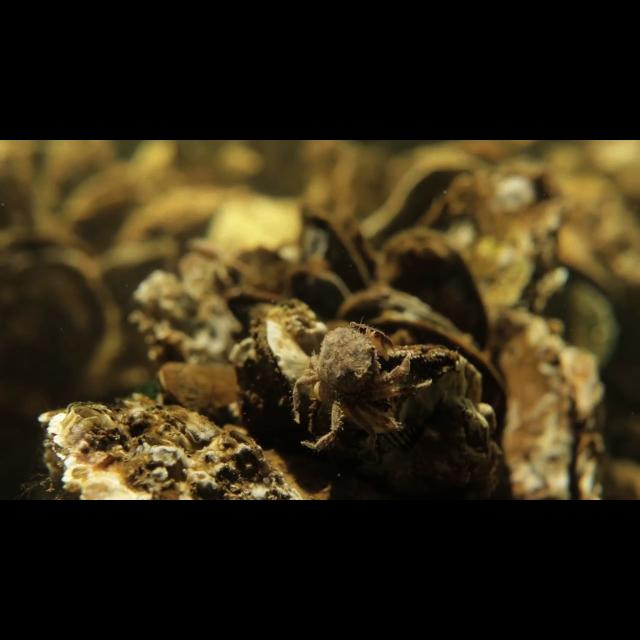Oyster-Closed: (30, 382, 315, 498), (495, 310, 620, 498), (249, 322, 314, 413)
